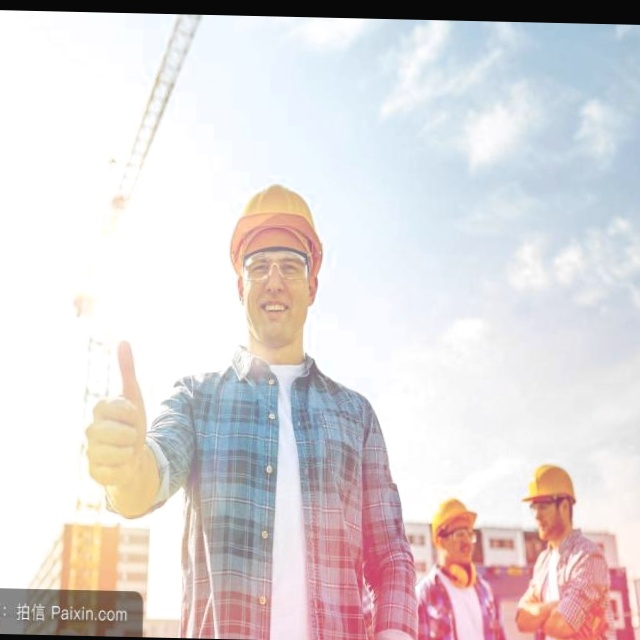Con_Casco: (228, 184, 325, 344), (526, 462, 578, 535)
Sin_Chaleco: (170, 346, 384, 620)
